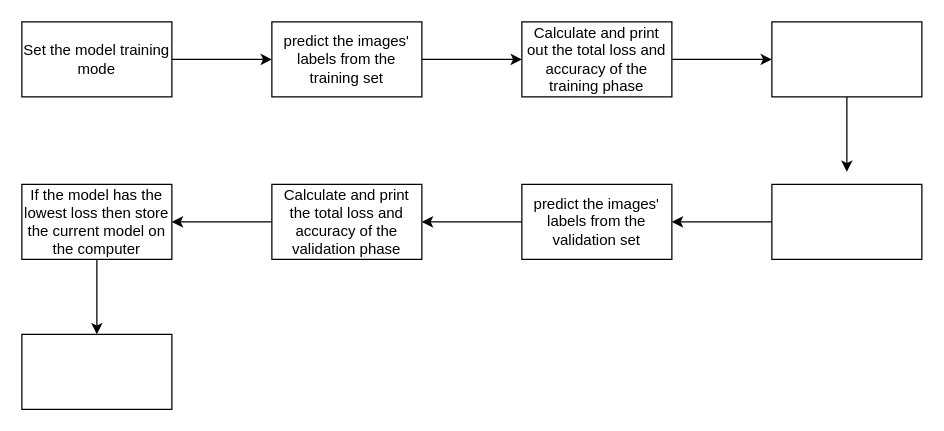
Some shapes in this 944 by 431 pixel diagram are drawn without their labels. Here are the shapes that lost their labels. From the top down, the centre of each, then its label:
At pixel 846 59: "Update the model parameters based on the optimizer".
At pixel 846 221: "Set the model to evaluation mode".
At pixel 96 371: "Repeat from the start if we did not reach the target epoch".
